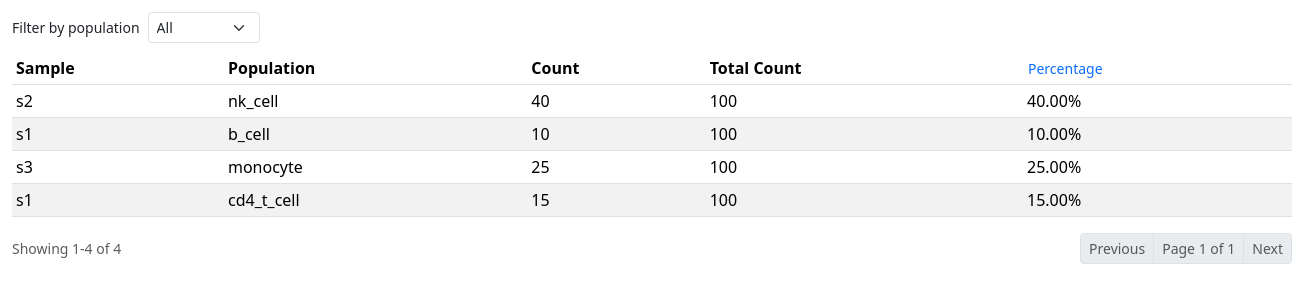
CellFrequencyTable › sorts by percentage ascending then descending, and Reset Sort restores the original order
Expected: the text "Reset Sort" is not shown
Click the button "Percentage".
click(1065, 69)  # box top-left (1027, 57), bottom-right (1104, 80)
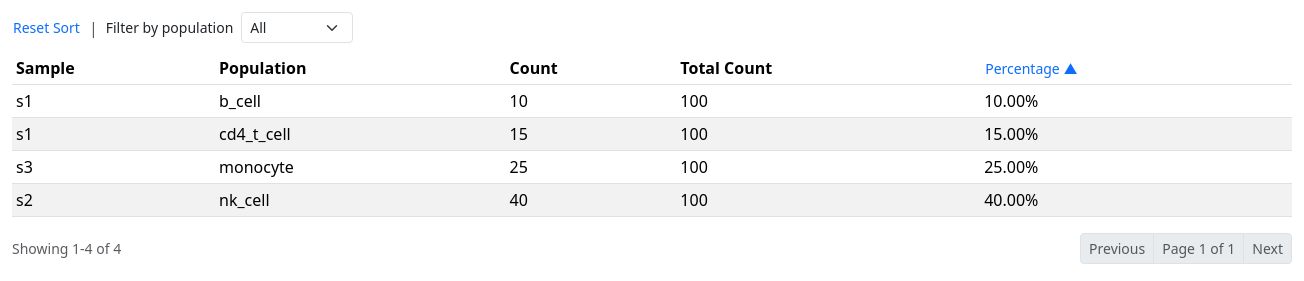
Expected: the button "Reset Sort" is shown, top-left (12, 16), bottom-right (81, 39)
Click the button "Percentage ▲".
click(1031, 69)  # box top-left (984, 57), bottom-right (1079, 80)
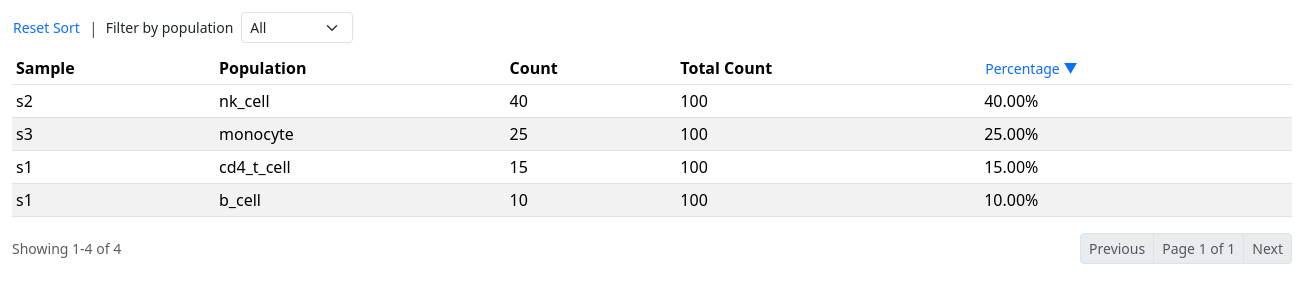
Expected: the button "Reset Sort" is shown
Click the button "Reset Sort".
click(46, 28)  # box top-left (12, 16), bottom-right (81, 39)
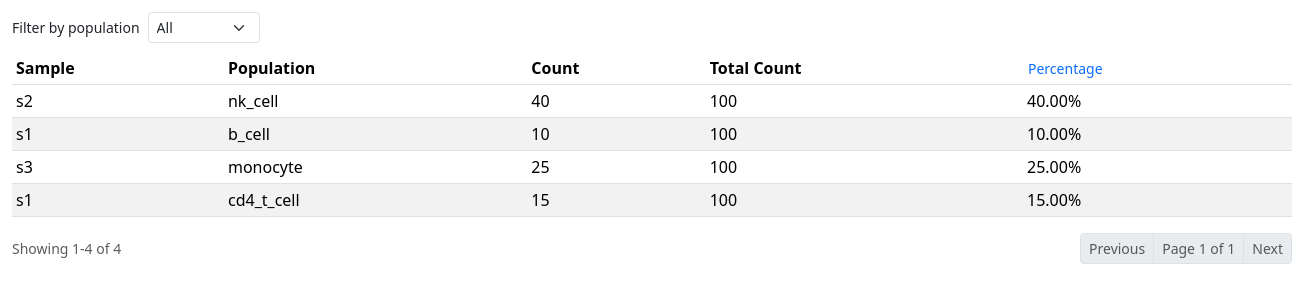
Expected: the button "Reset Sort" is gone
